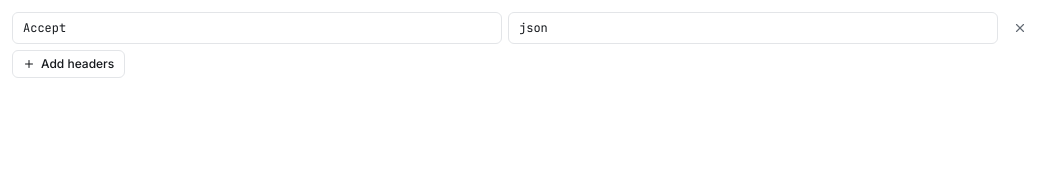
Scenario: KeyValueEditor › keeps a new row visible while its name is still blank
Click the button "Add headers".
click(69, 64)  # box [12, 50, 125, 78]
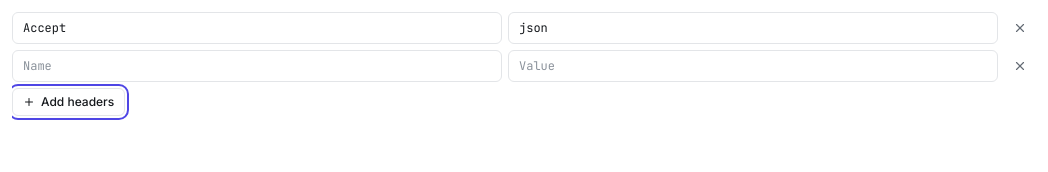
Expected: the field named "Headers name 2" is shown, [12, 50, 502, 82]
